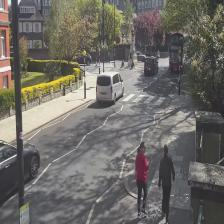person: (157, 144, 175, 224), (135, 142, 152, 218)
